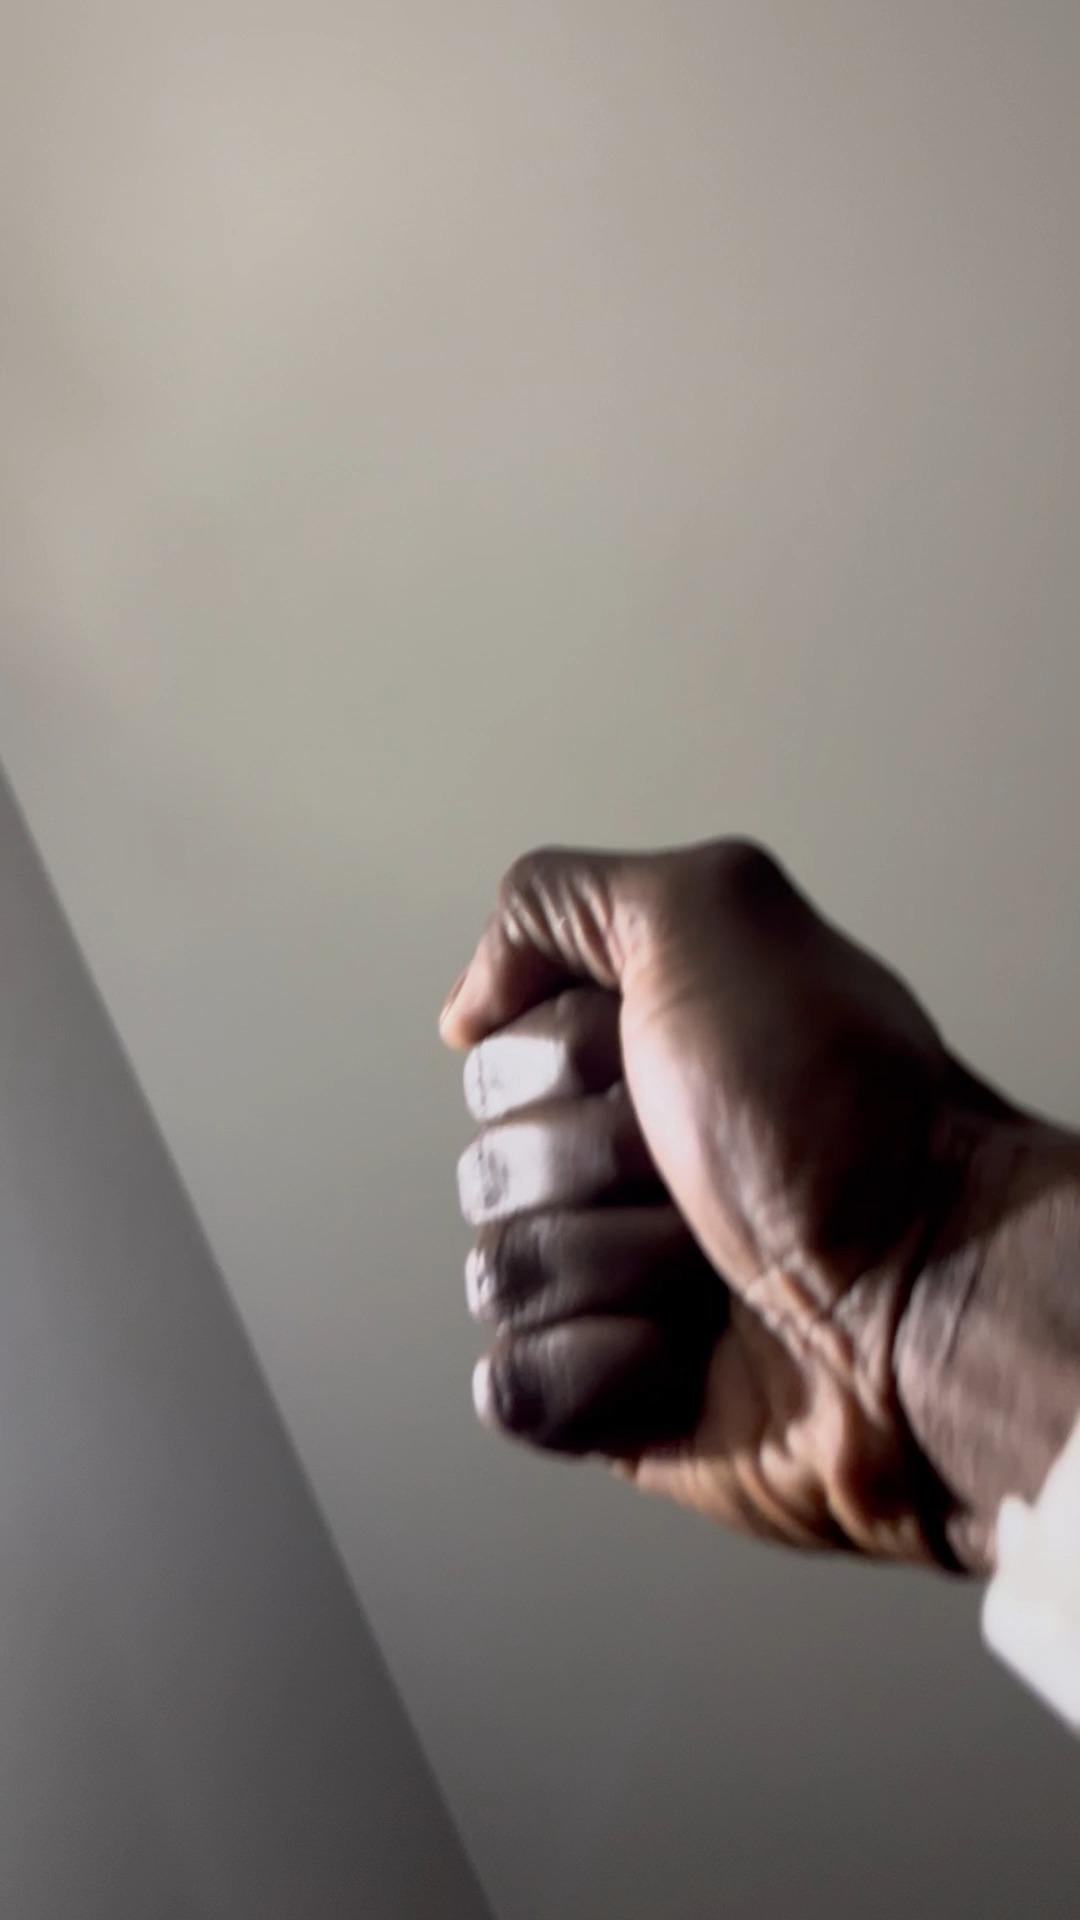Rock: (440, 823, 1032, 1586)
